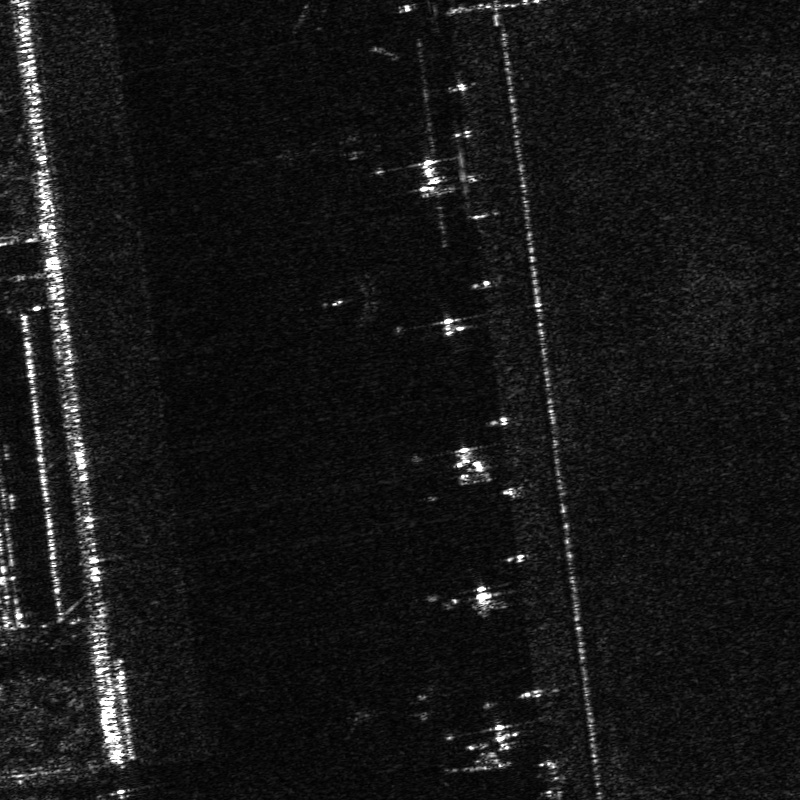Boeing787: (317, 264, 400, 330)
